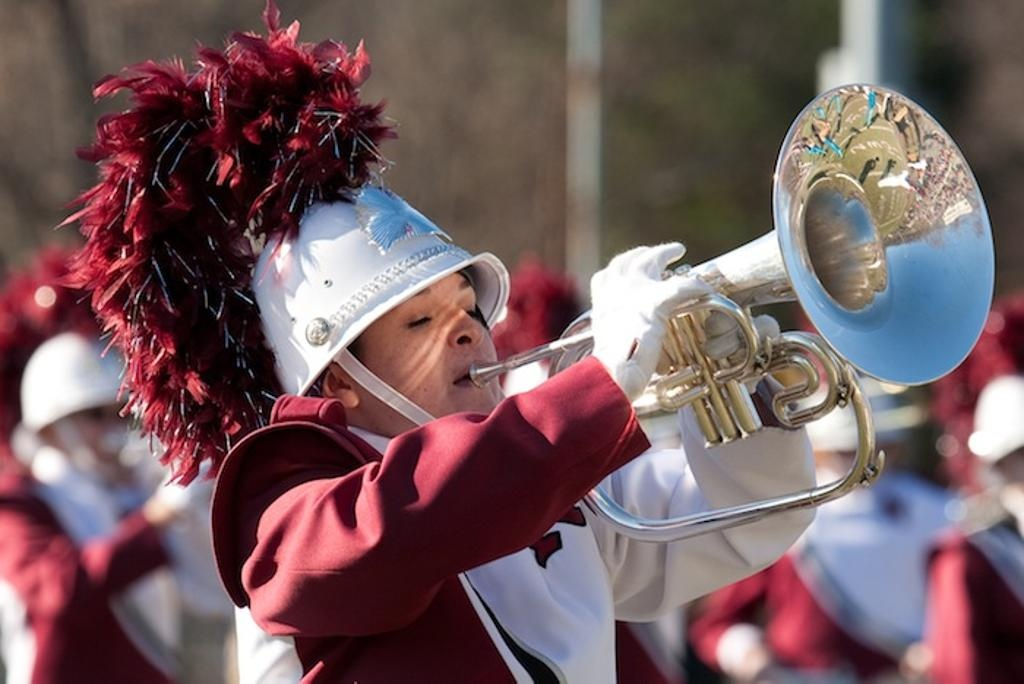human_face: (350, 256, 502, 432)
